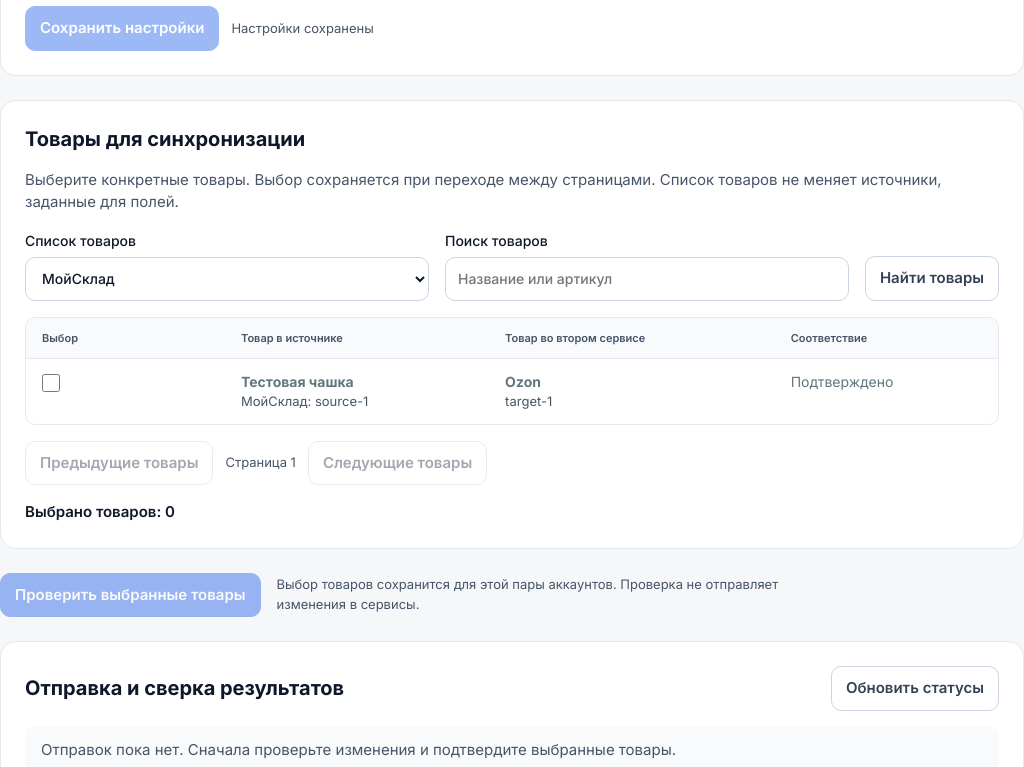
previews without approving and submits only explicitly selected canonical enrollment IDs
(page scrolled)
Click the checkbox named "Выбрать товар Тестовая чашка": (51, 383) [42,374,60,392]
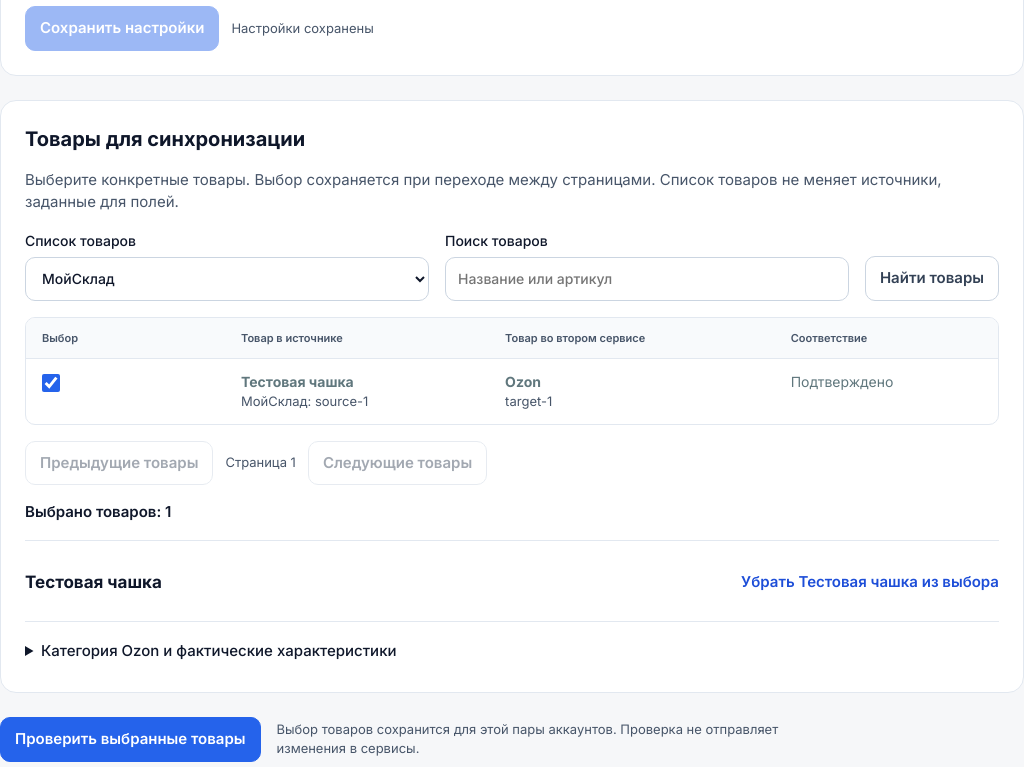
Click the button "Проверить выбранные товары": (130, 739) [0,717,260,762]
(page scrolled)
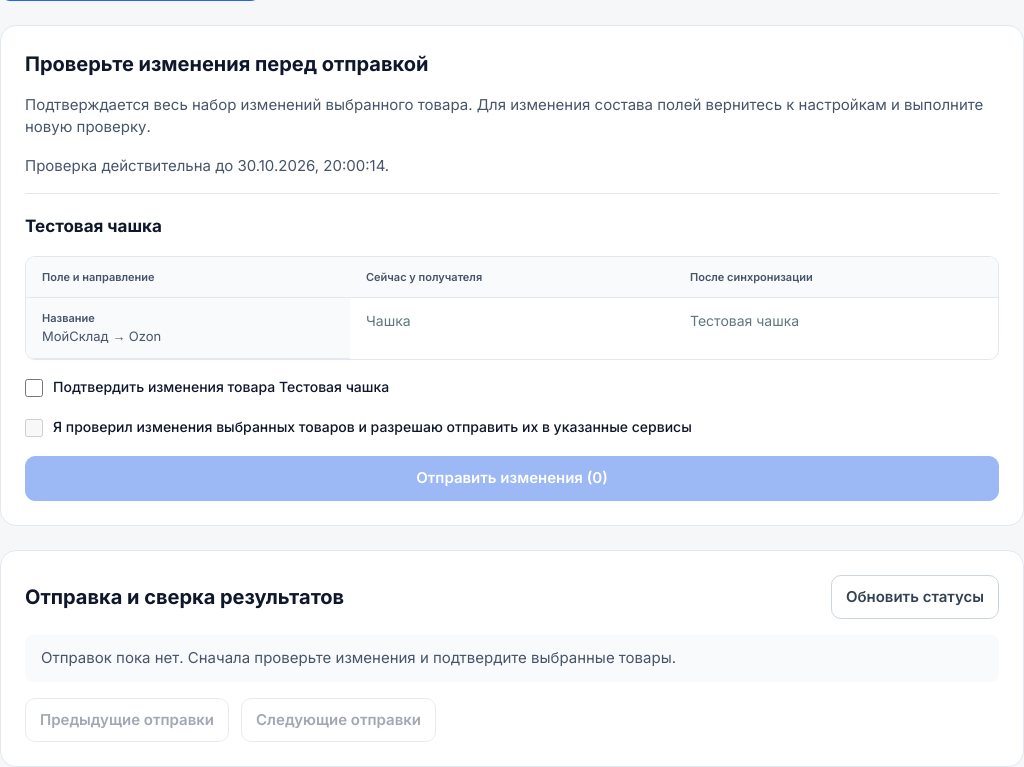
Expected: the button "Отправить изменения (0)" is disabled, [25,456,999,500]
Click the checkbox labelled "Подтвердить изменения товара Тестовая чашка": (34, 388) [25,379,43,397]
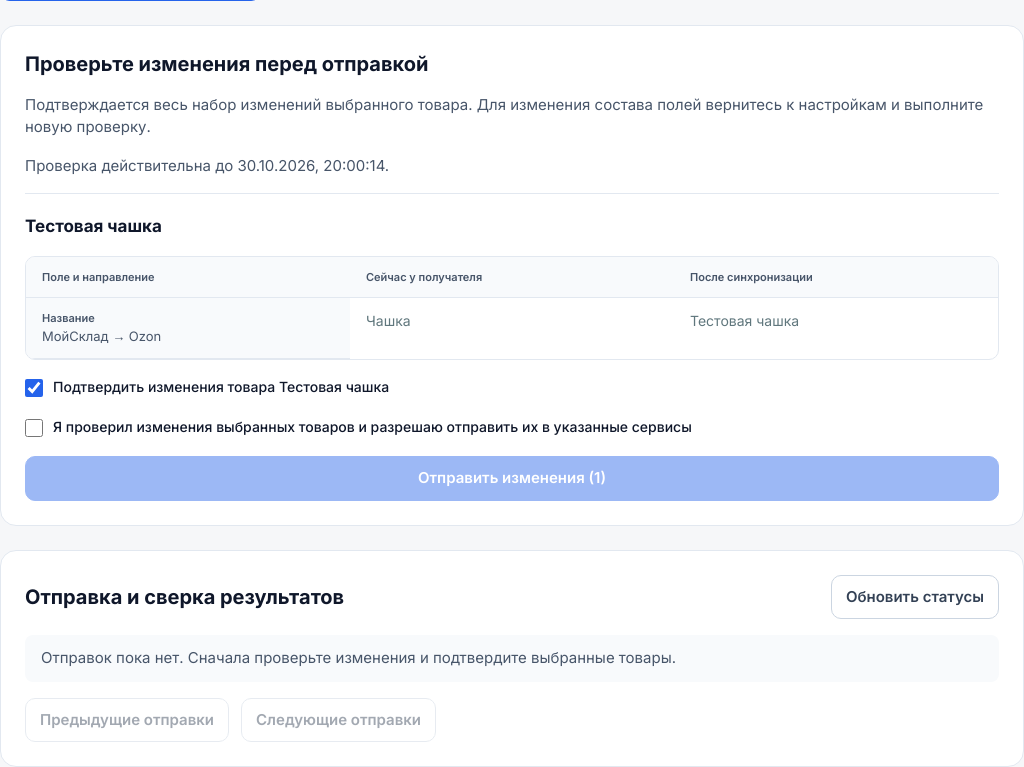
Expected: the button "Отправить изменения (1)" is disabled, [25,456,999,500]
Click the checkbox labelled "Я проверил изменения выбранных товаров": (34, 428) [25,419,43,437]
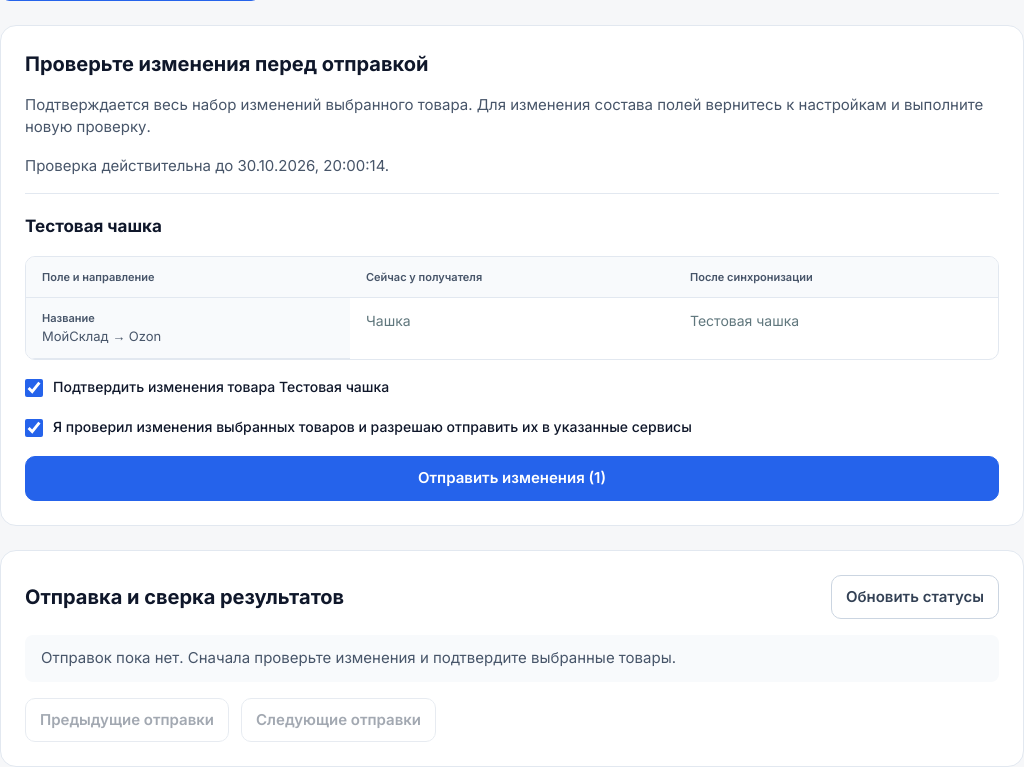
Click the button "Отправить изменения (1)": (512, 478) [25,456,999,500]
(page scrolled)
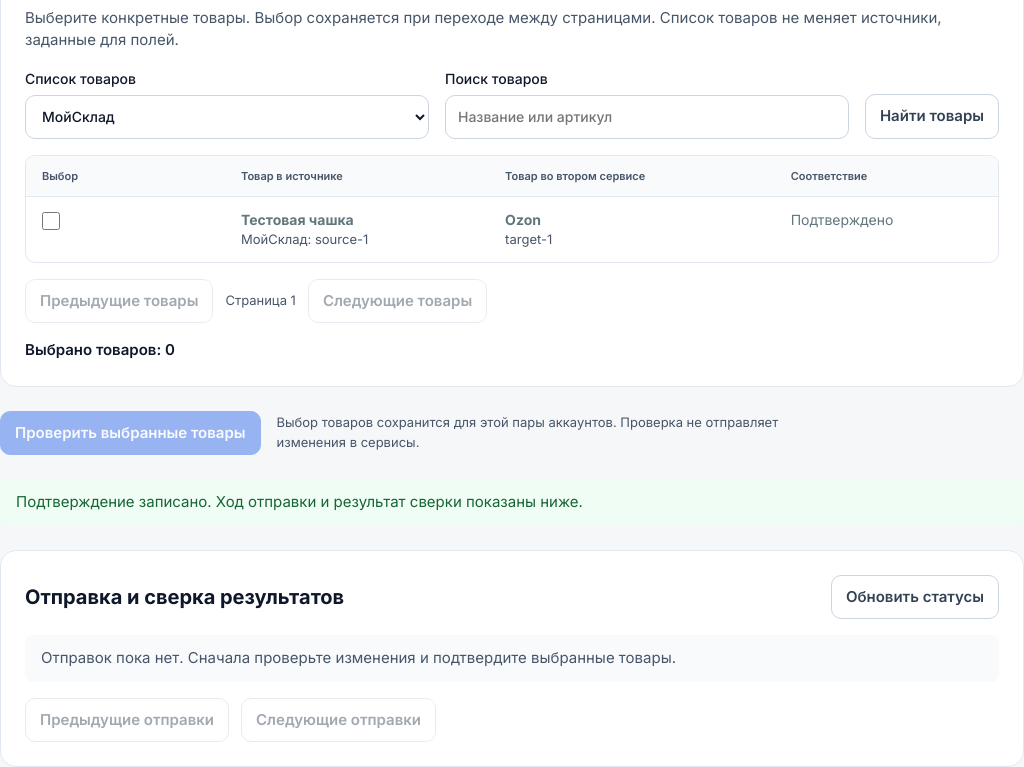
Expected: the text "Подтверждение записано. Ход отправки и результат сверки показаны ниже." is shown, [0,479,1023,526]
